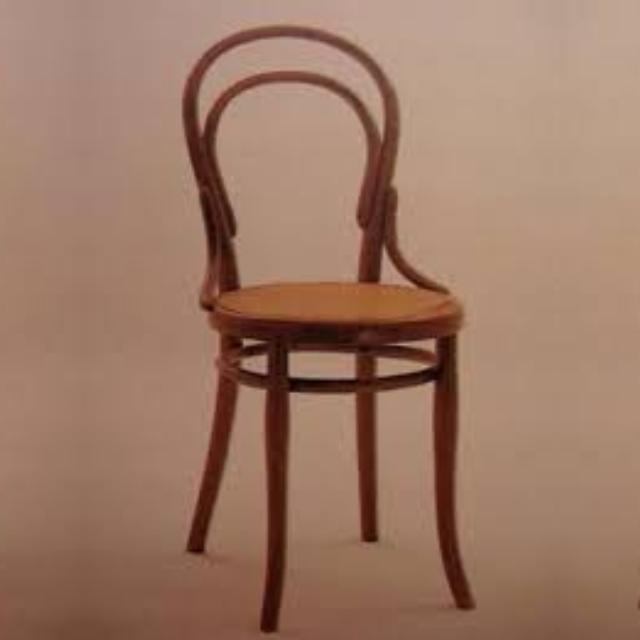obstacle: (149, 2, 503, 640), (610, 2, 640, 639), (0, 2, 17, 639)
